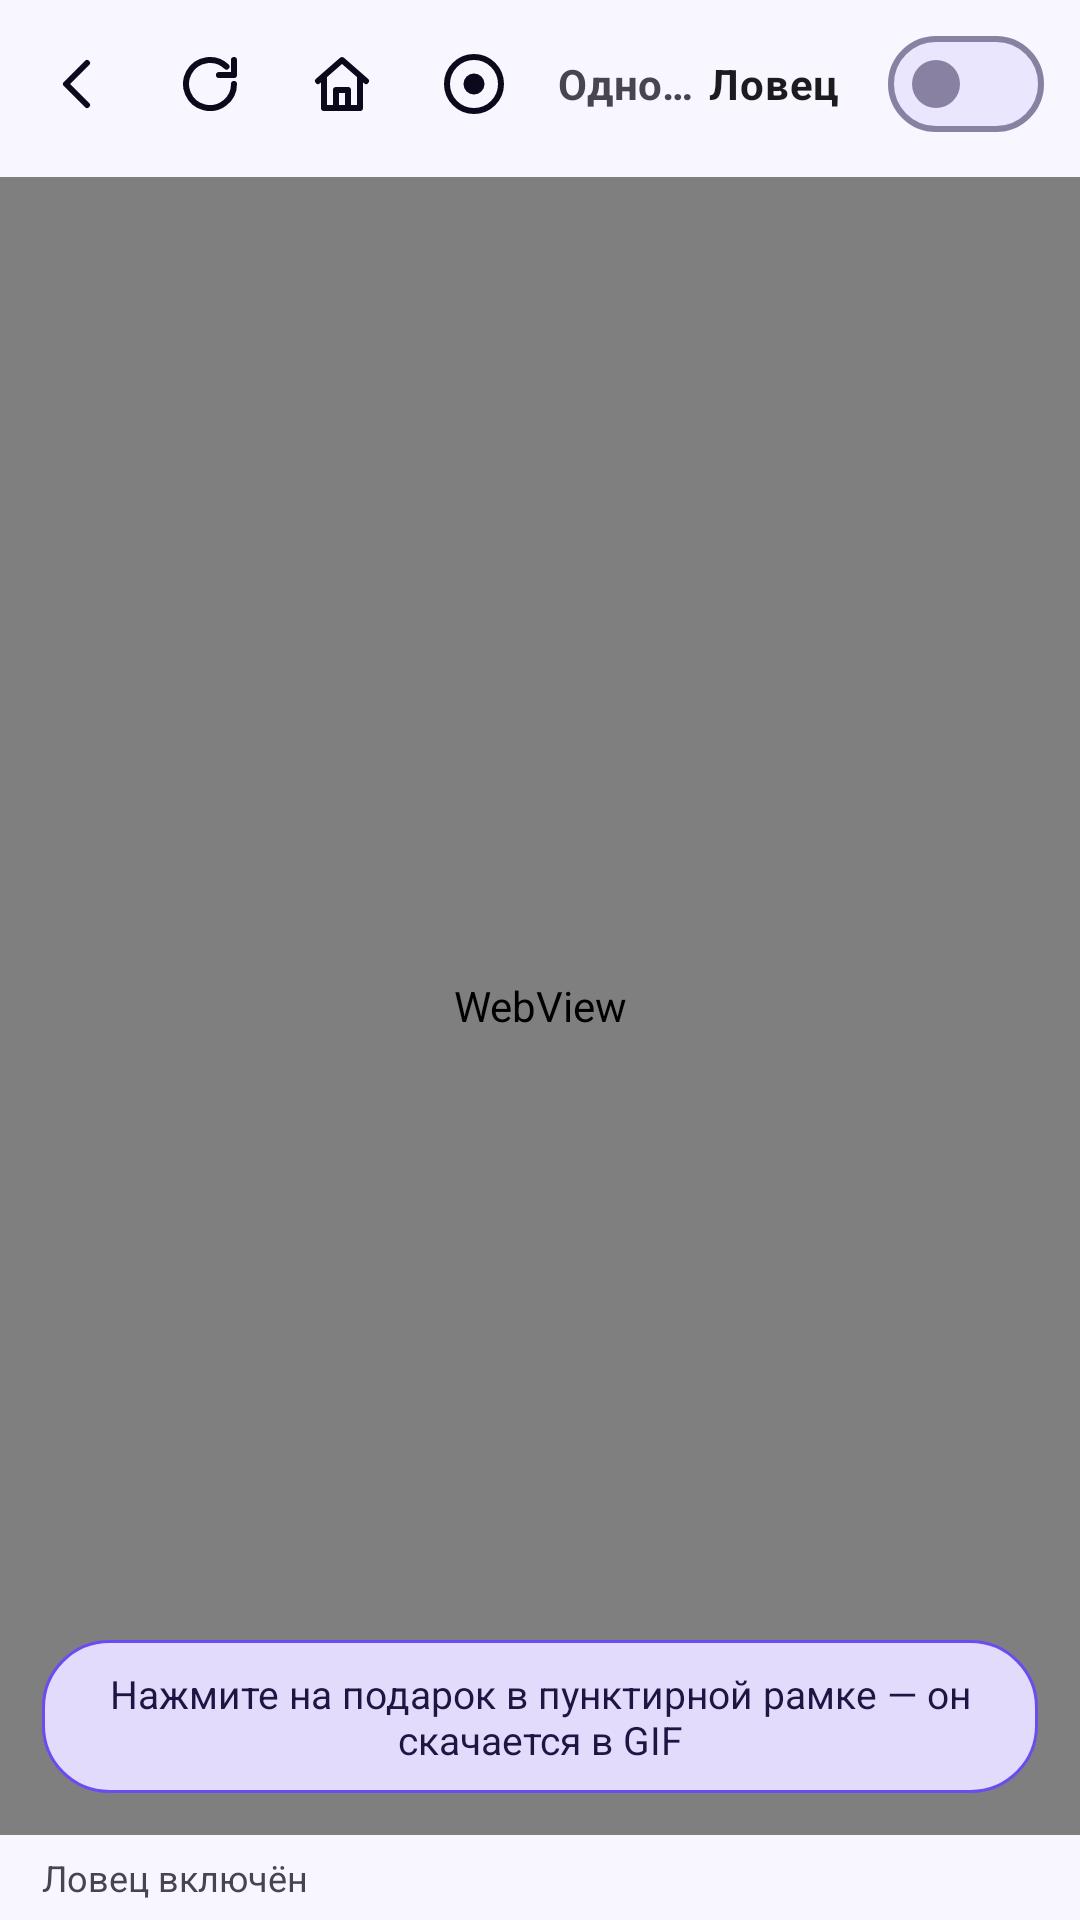

Point at icon controls on the screen. Image size 1080x1920, points as [x,y].
Записать анимацию: [474,84]
На главную: [342,84]
Назад: [76,84]
Обновить: [210,84]
